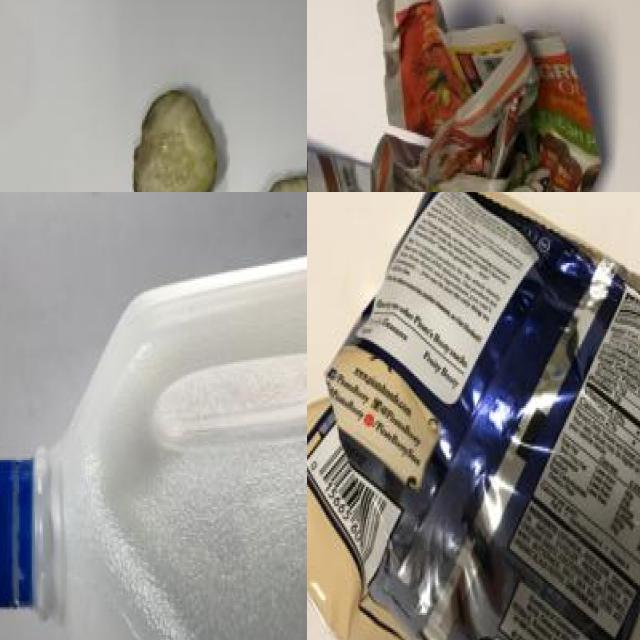compost: (99, 60, 307, 192)
paper: (307, 0, 615, 192)
plastic: (0, 199, 307, 640)
trash: (307, 192, 640, 640)
